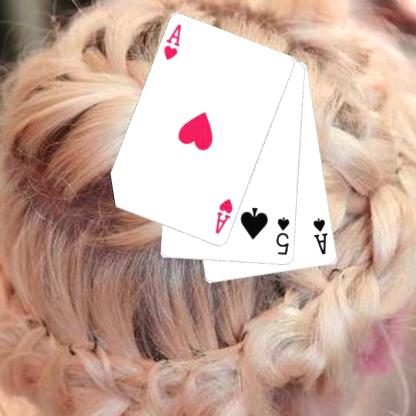5S: (274, 214, 291, 257)
AH: (161, 22, 183, 62), (213, 196, 234, 236)
AS: (310, 216, 330, 256)
